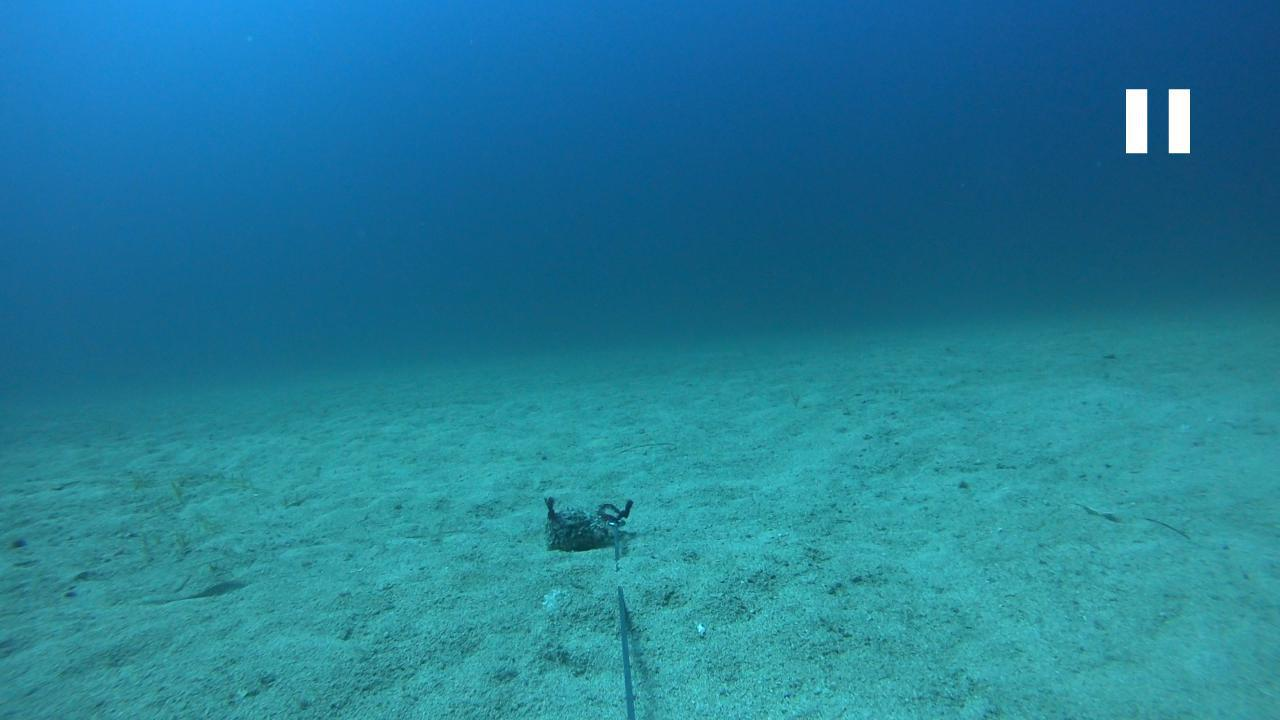bothus: (124, 555, 244, 604)
